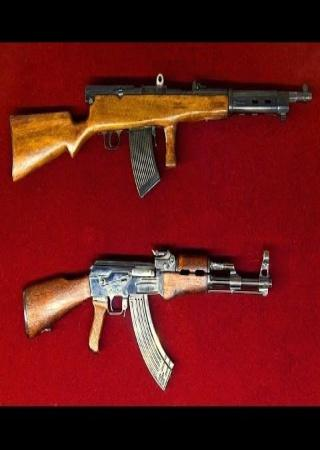weapon: (9, 72, 315, 197), (22, 250, 274, 391)
